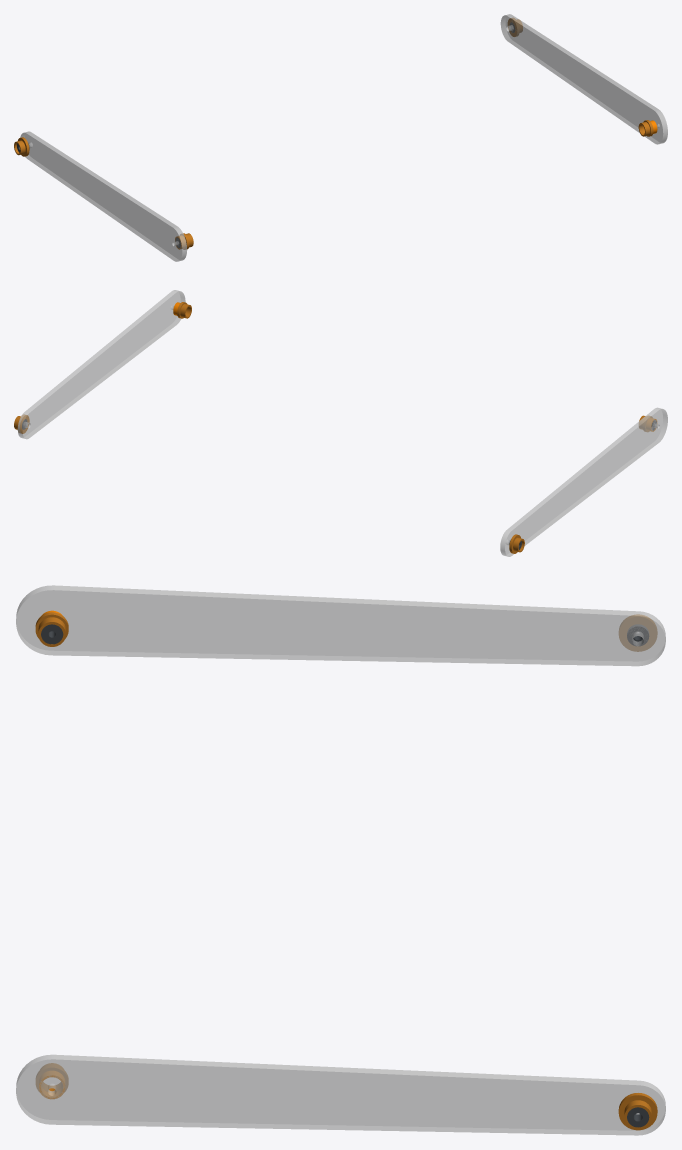
3 renders of one model, top to bottom at view 1: azimuth 30°, elevation 25°; view 2: azimuth 150°, elevation 25°; view 3: azimuth 270°, elevation 25°, orthographic. The views are drawn at different scales.
Parts seen in each view (by area): view 1: 1678-2025-B-0300 Coral Intake <1>; view 2: 1678-2025-B-0300 Coral Intake <1>; view 3: 1678-2025-B-0300 Coral Intake <1>, Bushing.
Boxes of the visible parts, x1,y1,x2,y2 form: 1678-2025-B-0300 Coral Intake <1>: (20,14,667,261); 1678-2025-B-0300 Coral Intake <1>: (17,290,667,556); 1678-2025-B-0300 Coral Intake <1>: (16,585,665,1135); Bushing: (618,1093,657,1130).
Size of what is drawn, in the model's own units: 0.6636 by 0.0481 by 0.3717.
